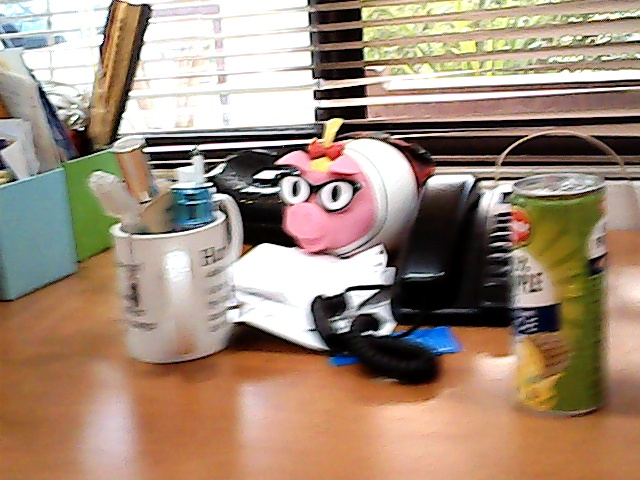Pine Juice: (501, 164, 622, 430)
